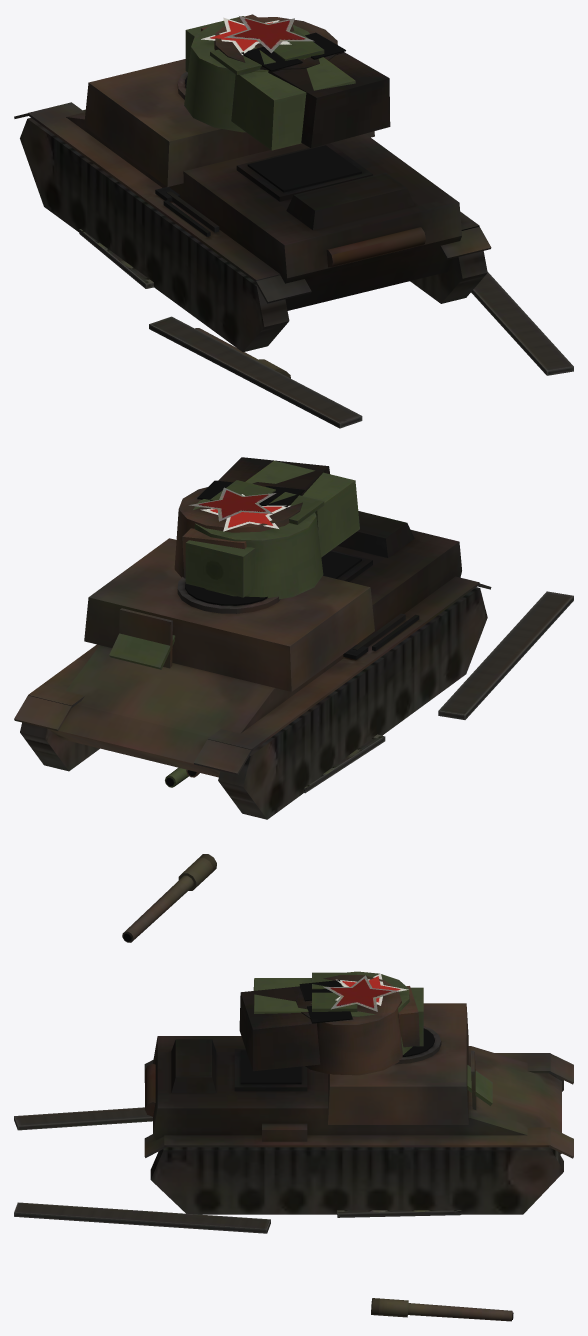
The picture shows the model from 3 angles, top to bottom: view 1: azimuth 30°, elevation 25°; view 2: azimuth 150°, elevation 25°; view 3: azimuth 270°, elevation 25°; orthographic projection. The views are drawn at different scales.
Parts seen in each view (by area): view 1: hull_blown, turret_ok, turret_ko, hull_trackL, hull_trackR; view 2: hull_blown, turret_ok, turret_ko, hull_trackL, gun_blown, hull_ok; view 3: hull_blown, turret_ko, hull_trackR, turret_ok, hull_trackL, gun_blown, hull_ok.
Part boxes in pixels (x1=…): hull_blown: x1=14, y1=59, x2=491, y2=352; turret_ok: x1=184, y1=16, x2=355, y2=150; turret_ko: x1=201, y1=14, x2=390, y2=148; hull_trackL: x1=79, y1=229, x2=362, y2=428; hull_trackR: x1=471, y1=272, x2=573, y2=375; hull_blown: x1=14, y1=511, x2=491, y2=819; turret_ok: x1=185, y1=460, x2=359, y2=599; turret_ko: x1=174, y1=457, x2=329, y2=578; hull_trackL: x1=304, y1=591, x2=573, y2=793; gun_blown: x1=122, y1=854, x2=216, y2=942; hull_ok: x1=109, y1=633, x2=175, y2=669; hull_blown: x1=144, y1=1003, x2=573, y2=1214; turret_ko: x1=239, y1=975, x2=419, y2=1075; hull_trackR: x1=14, y1=1202, x2=461, y2=1233; turret_ok: x1=253, y1=971, x2=423, y2=1054; hull_trackL: x1=14, y1=1107, x2=152, y2=1130; gun_blown: x1=371, y1=1298, x2=513, y2=1321; hull_ok: x1=467, y1=1065, x2=492, y2=1105.
Bounding box in the file's own units: 3.4 × 3.9 × 6.16.
Materials: 21 (21 with a texture image).
